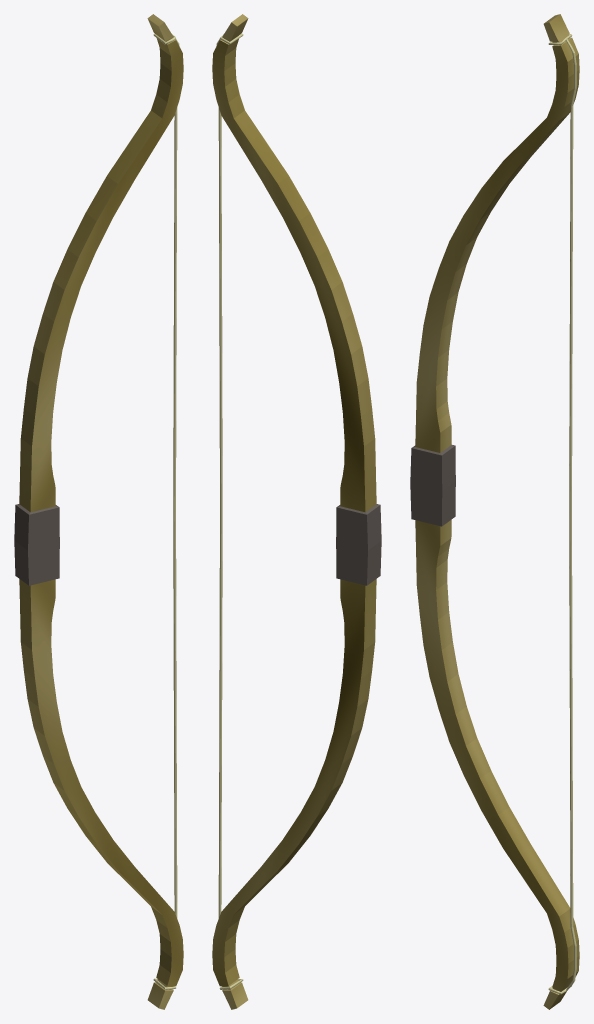
The model's file is Bow.fbx.
3 renders of one model, left to right at view 1: azimuth 30°, elevation 25°; view 2: azimuth 150°, elevation 25°; view 3: azimuth 330°, elevation 25°, orthographic.
Visible parts, largest first — view 1: Bow, Rop; view 2: Bow, Rop; view 3: Bow, Rop.
Part boxes in pixels (left/top/right/bottom): Bow: left=14, top=14, right=183, bottom=1009; Rop: left=153, top=34, right=179, bottom=989; Bow: left=212, top=14, right=381, bottom=1009; Rop: left=216, top=33, right=243, bottom=989; Bow: left=410, top=14, right=579, bottom=1009; Rop: left=548, top=34, right=576, bottom=994.
Size of the model in its own units: 164 by 970 by 24.32.
3 materials, 1 textured.
